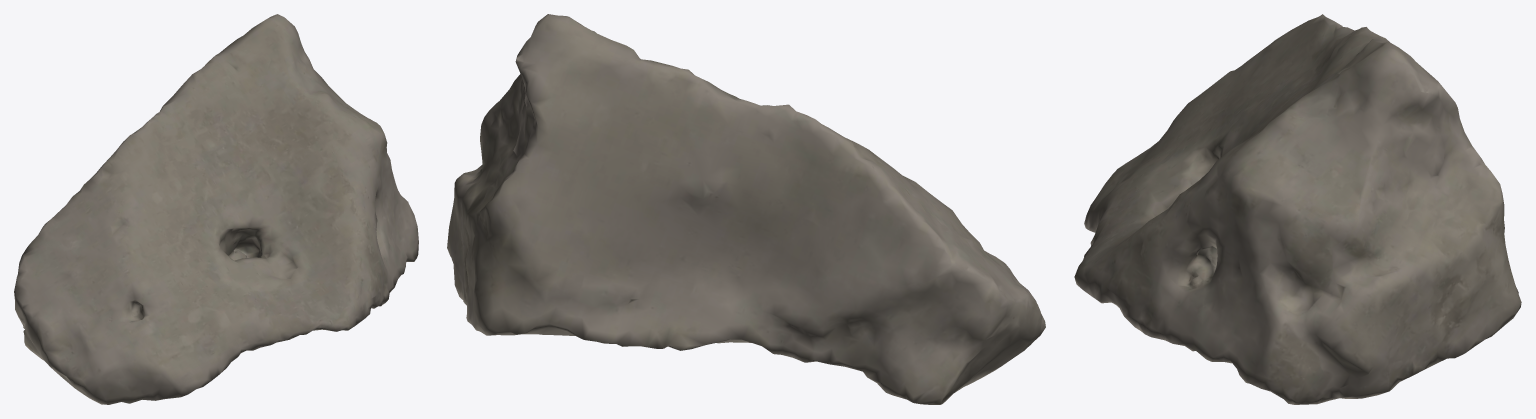
Rendered from moon_rock_07.glb.
The picture shows the model from 3 angles, left to right: view 1: azimuth 30°, elevation 25°; view 2: azimuth 150°, elevation 25°; view 3: azimuth 270°, elevation 25°; orthographic projection. The views are drawn at different scales.
Visible parts, largest first — view 1: moon_rock_07_LOD0; view 2: moon_rock_07_LOD0; view 3: moon_rock_07_LOD0.
Part boxes in pixels (left/top/right/bottom): moon_rock_07_LOD0: left=14, top=14, right=418, bottom=404; moon_rock_07_LOD0: left=447, top=14, right=1045, bottom=404; moon_rock_07_LOD0: left=1074, top=14, right=1521, bottom=404.
Bounding box in the file's own units: 0.0968 × 0.0603 × 0.0738.
Materials: 1 (1 with a texture image).
